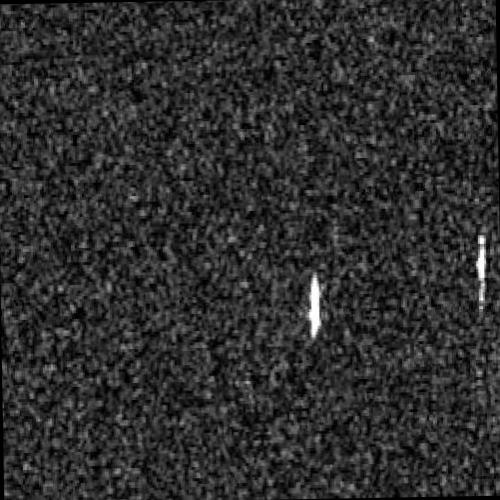ship: (309, 274, 322, 338), (477, 233, 487, 304)
